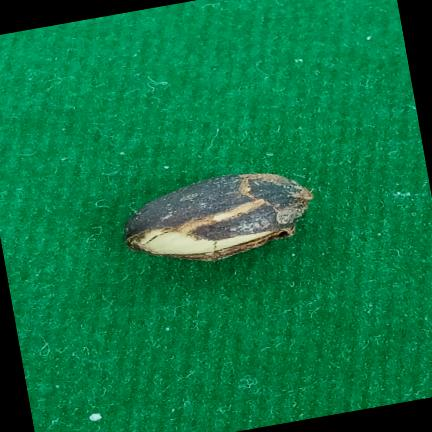full-black: (124, 173, 313, 261)
